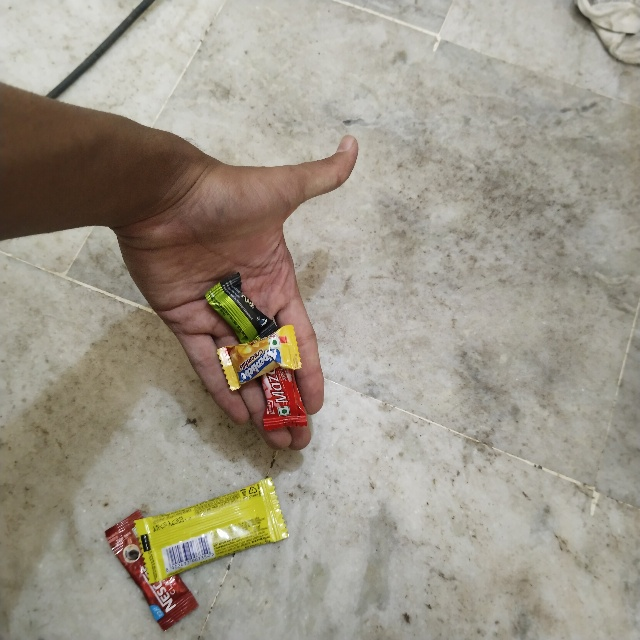Alpenlibe Creamfills: (215, 350, 297, 394)
Mazelo: (259, 374, 298, 425)
Nescafe Coffee: (136, 506, 261, 550)
Orbit: (125, 518, 278, 582)
Pulse: (196, 296, 240, 371)
